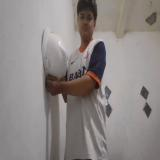Helmet: (42, 25, 68, 81)
